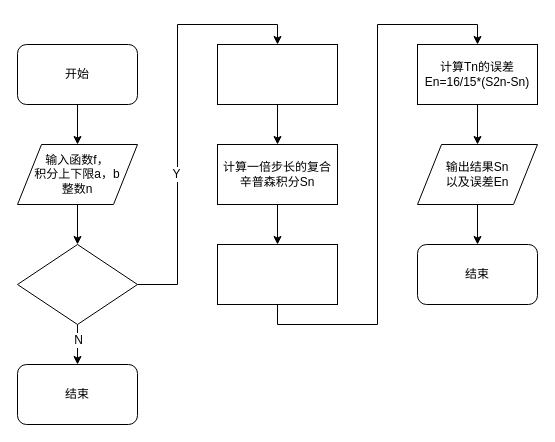
This 555x442 diagram has some shape labels left out. Here are the shapes that lost their labels. From the top down, the centre of each, then its label:
[277,74]: 计算h=(b-a)/n
[77,284]: n是否为偶数？
[277,274]: 计算一半步长的复合辛普森积分S2n
